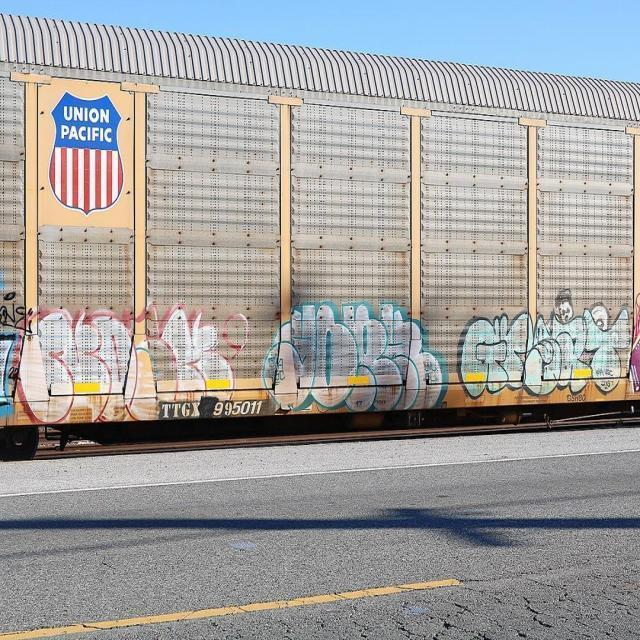nonspitting: (12, 306, 249, 424), (264, 302, 450, 416), (457, 311, 631, 400), (161, 398, 262, 418), (0, 328, 16, 418), (0, 291, 33, 333)
spitting: (46, 90, 125, 216)
